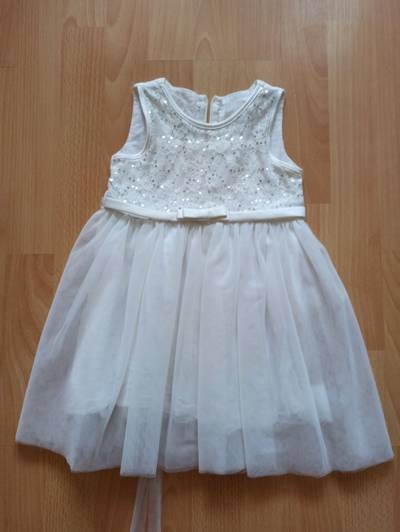Dress: (18, 37, 397, 488)
